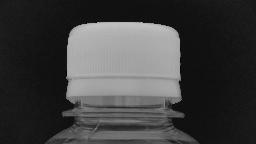Loose Cap: (58, 66, 192, 120)
